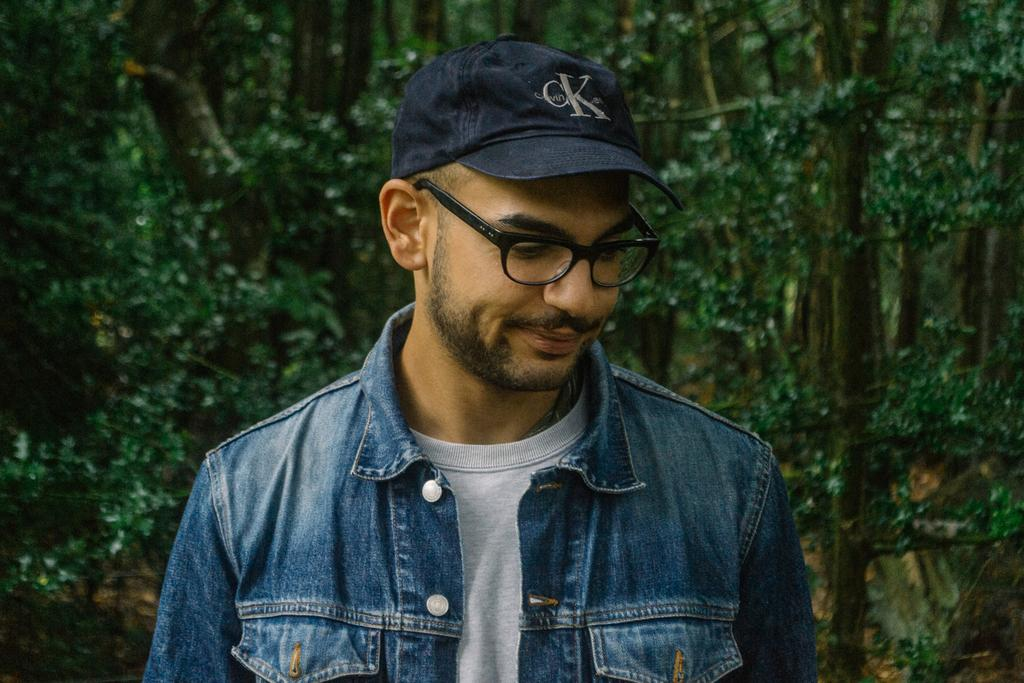Hat: (390, 32, 682, 215)
